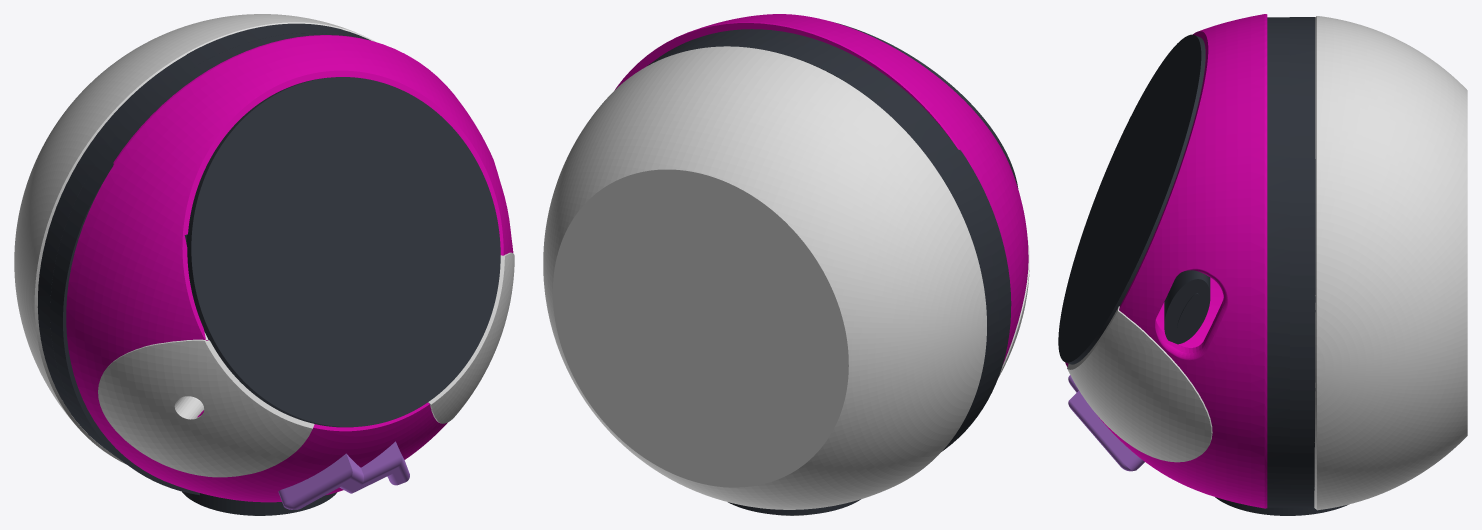
Rendered from poketama-master-screen-battery.glb.
3 renders of one model, left to right at view 1: azimuth 30°, elevation 25°; view 2: azimuth 150°, elevation 25°; view 3: azimuth 270°, elevation 25°, orthographic.
Bounding box in the file's own units: 1.93 × 2 × 1.58.
